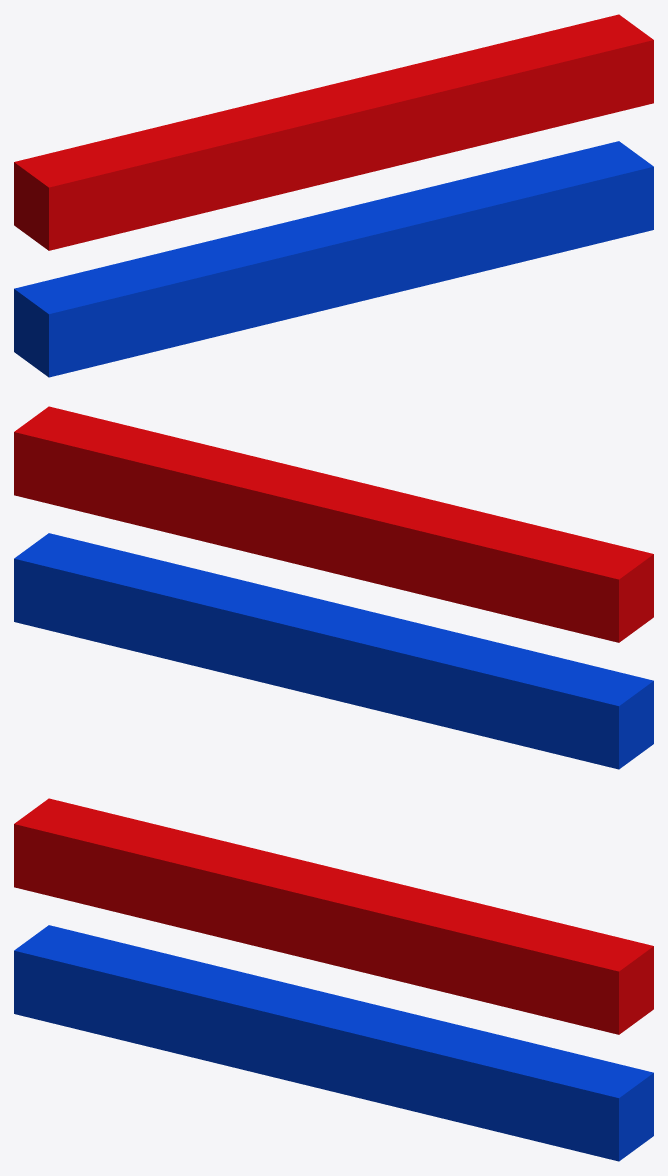
File: moverYReposicionar.fbx
3 renders of one model, top to bottom at view 1: azimuth 30°, elevation 25°; view 2: azimuth 150°, elevation 25°; view 3: azimuth 330°, elevation 25°, orthographic.
Visible parts, largest first — view 1: PlataformaRoja, PlataformaAzul; view 2: PlataformaRoja, PlataformaAzul; view 3: PlataformaRoja, PlataformaAzul.
Part boxes in pixels (<box>): PlataformaRoja: <box>14,14,653,250</box>; PlataformaAzul: <box>14,141,653,377</box>; PlataformaRoja: <box>14,406,653,642</box>; PlataformaAzul: <box>14,533,653,769</box>; PlataformaRoja: <box>14,798,653,1034</box>; PlataformaAzul: <box>14,925,653,1161</box>.
Size of the model in its own units: 2000 by 600 by 200.
